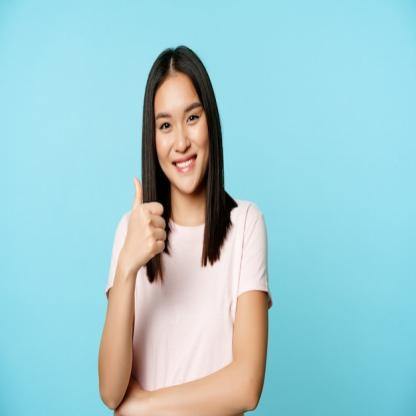thumb_up: (127, 175, 169, 271)
